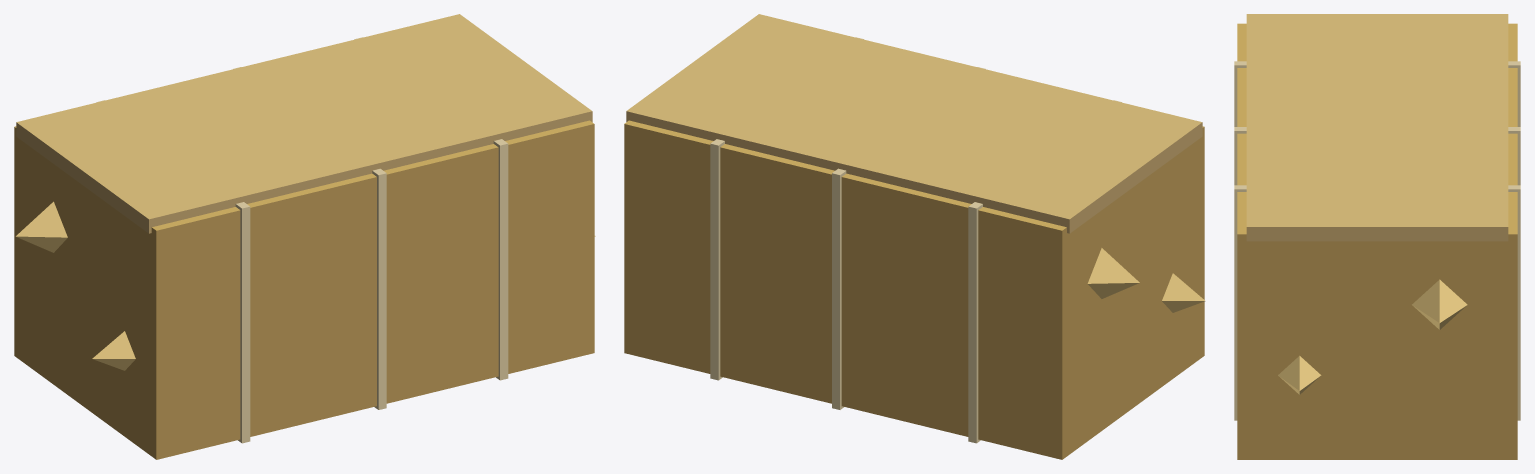
Rendered from hay_bale_square.glb.
The picture shows the model from 3 angles, left to right: view 1: azimuth 30°, elevation 25°; view 2: azimuth 150°, elevation 25°; view 3: azimuth 270°, elevation 25°; orthographic projection.
Parts seen in each view (by area): view 1: hay_bale_square; view 2: hay_bale_square; view 3: hay_bale_square.
Boxes of the visible parts, x1,y1,x2,y2 form: hay_bale_square: (14,14,595,459); hay_bale_square: (624,14,1205,459); hay_bale_square: (1234,14,1520,459).
Size of the model in its own units: 1.88 by 0.84 by 0.92.
